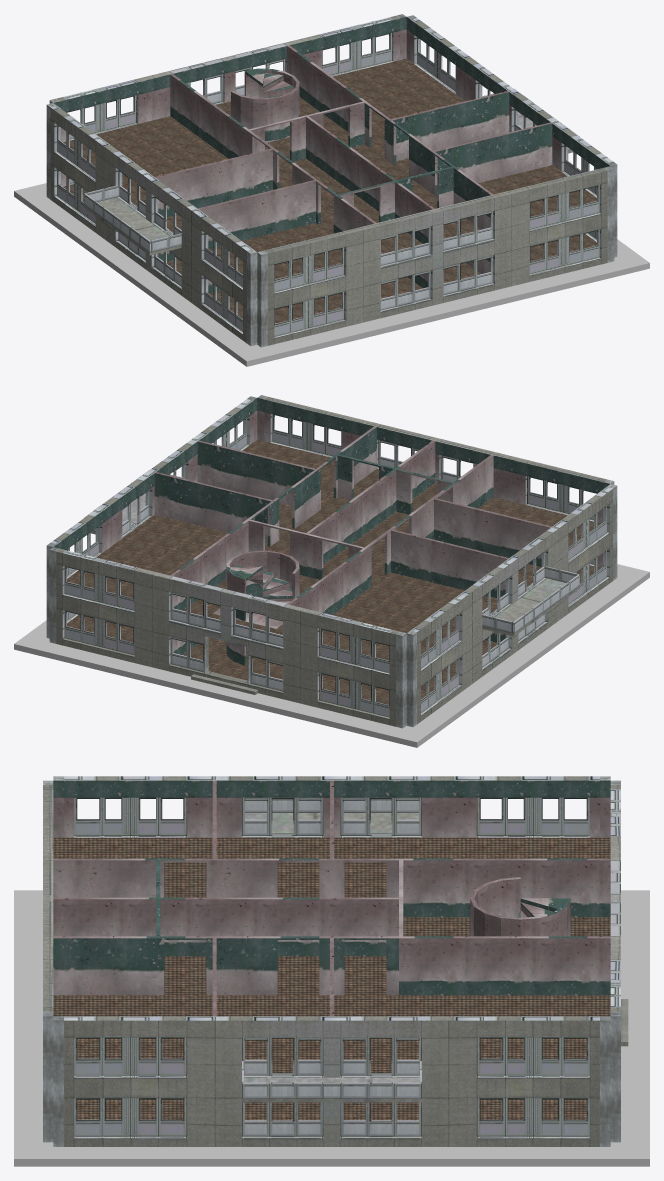
File: BagSS10base_high.fbx
The picture shows the model from 3 angles, top to bottom: view 1: azimuth 30°, elevation 25°; view 2: azimuth 150°, elevation 25°; view 3: azimuth 270°, elevation 25°; orthographic projection. The views are drawn at different scales.
Visible parts, largest first — view 1: baseMain700, baseWalls700, baseFloor700, baseFound700, baseStairs700, baseCrete700; view 2: baseMain700, baseWalls700, baseFloor700, baseFound700, baseCrete700, baseStairs700; view 3: baseMain700, baseWalls700, baseFloor700, baseFound700, baseCrete700, baseStairs700.
Boxes of the visible parts, x1,y1,x2,y2 form: baseMain700: (50, 15, 612, 345); baseWalls700: (54, 17, 609, 293); baseFloor700: (63, 58, 596, 323); baseFound700: (14, 183, 649, 366); baseStairs700: (230, 68, 299, 142); baseCrete700: (46, 14, 617, 347); baseMain700: (51, 396, 613, 726); baseWalls700: (54, 398, 609, 654); baseFloor700: (67, 439, 600, 704); baseFound700: (14, 564, 649, 747); baseCrete700: (46, 395, 617, 728); baseStairs700: (213, 550, 299, 665); baseMain700: (43, 776, 620, 1146); baseWalls700: (53, 780, 610, 1016); baseFloor700: (53, 837, 610, 1120); baseFound700: (14, 890, 649, 1166); baseCrete700: (43, 776, 620, 1146); baseStairs700: (470, 877, 570, 936).
Bounding box in the file's own units: 51.84 × 11.68 × 48.58.
